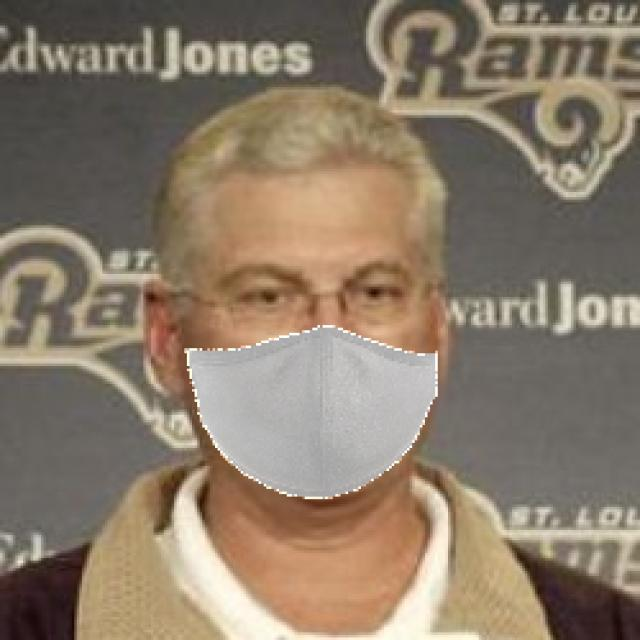mask: (156, 317, 466, 507)
